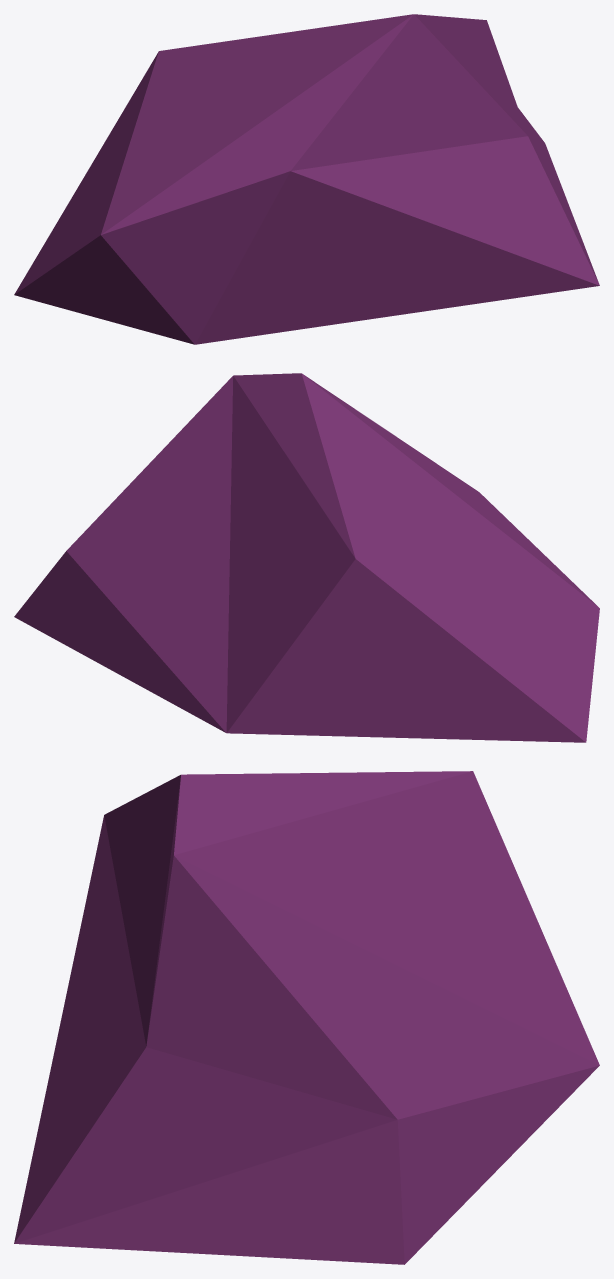
Rendered from M_P_Rock2.FBX.
3 renders of one model, top to bottom at view 1: azimuth 30°, elevation 25°; view 2: azimuth 150°, elevation 25°; view 3: azimuth 270°, elevation 25°, orthographic. The views are drawn at different scales.
Visible parts, largest first — view 1: GeoSphere066; view 2: GeoSphere066; view 3: GeoSphere066.
Part boxes in pixels (x1=…): GeoSphere066: x1=14, y1=14, x2=599, y2=344; GeoSphere066: x1=14, y1=373, x2=599, y2=742; GeoSphere066: x1=14, y1=771, x2=599, y2=1264.
Bounding box in the file's own units: 276 × 129 × 176.
